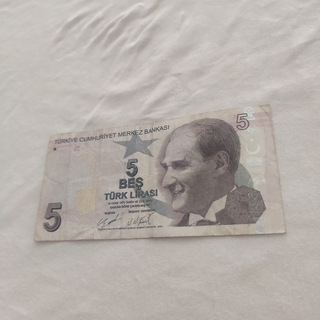5TLFront: (33, 104, 287, 242)
